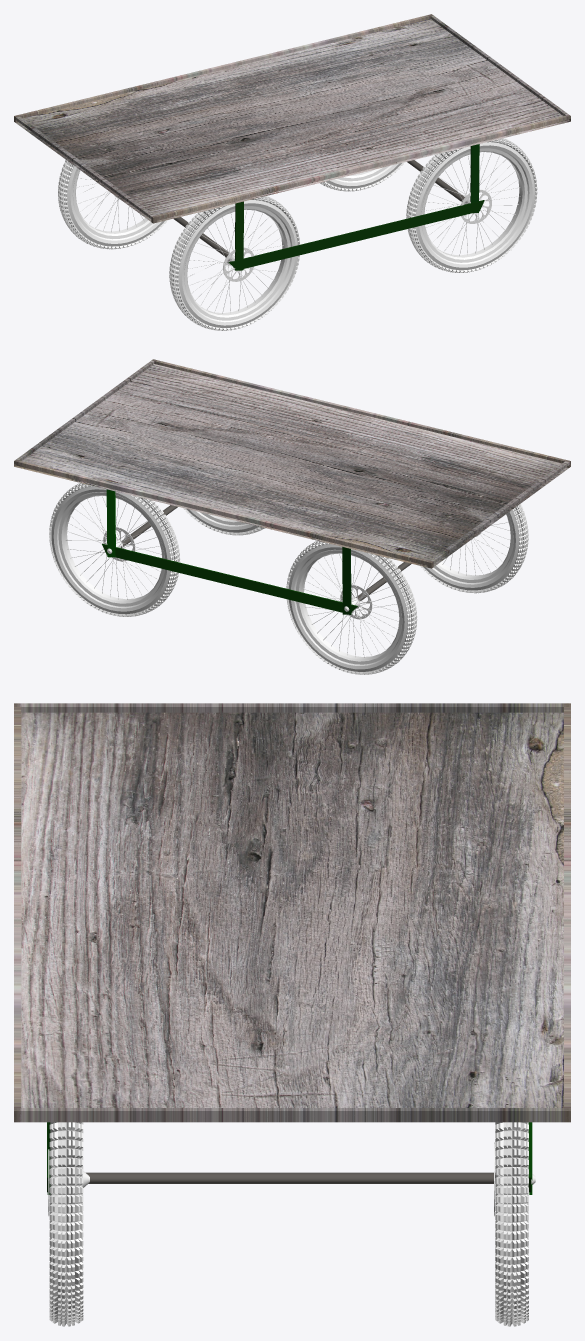
Rendered from gdk_haathgaadi.glb.
3 views of the same model, one above another, from view 1: azimuth 30°, elevation 25°; view 2: azimuth 150°, elevation 25°; view 3: azimuth 270°, elevation 25° (orthographic). The views are drawn at different scales.
Parts seen in each view (by area): view 1: Plane, ban_depan.003, ban_depan.002, ban_depan, Plane.001, ban_depan.001, Plane.003, Plane.002; view 2: Plane, ban_depan, ban_depan.001, ban_depan.002, Plane.004, ban_depan.003, Plane.005, Plane.006; view 3: Plane, ban_depan.003, ban_depan.001, Cylinder.001.
Part boxes in pixels (x1=…): Plane: x1=14, y1=14, x2=570, y2=223; ban_depan.003: x1=406, y1=138, x2=537, y2=272; ban_depan.002: x1=169, y1=196, x2=299, y2=330; ban_depan: x1=58, y1=160, x2=168, y2=249; Plane.001: x1=229, y1=200, x2=484, y2=270; ban_depan.001: x1=320, y1=162, x2=405, y2=191; Plane.003: x1=470, y1=144, x2=479, y2=213; Plane.002: x1=234, y1=201, x2=243, y2=270; Plane: x1=14, y1=359, x2=570, y2=568; ban_depan: x1=286, y1=541, x2=417, y2=674; ban_depan.001: x1=49, y1=483, x2=180, y2=616; ban_depan.002: x1=420, y1=503, x2=528, y2=593; Plane.004: x1=102, y1=543, x2=357, y2=612; ban_depan.003: x1=183, y1=508, x2=265, y2=535; Plane.005: x1=342, y1=547, x2=351, y2=614; Plane.006: x1=106, y1=489, x2=115, y2=557; Plane: x1=14, y1=703, x2=570, y2=1122; ban_depan.003: x1=48, y1=1122, x2=89, y2=1326; ban_depan.001: x1=494, y1=1122, x2=535, y2=1326; Cylinder.001: x1=86, y1=1172, x2=495, y2=1183.
Bounding box in the file's own units: 2 × 0.6542 × 1.15.
Materials: 13 (1 with a texture image).
